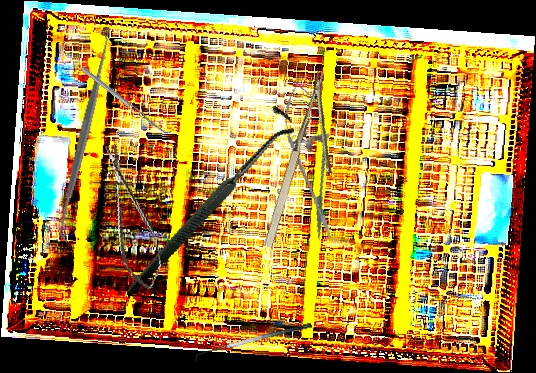Hook Surgical: (84, 101, 329, 299)
Micro Scissor: (276, 77, 346, 245), (96, 139, 167, 294)
Needle Holder: (258, 70, 361, 259)
Spatula Surgical: (46, 29, 122, 246), (80, 62, 173, 138), (192, 321, 315, 365)
